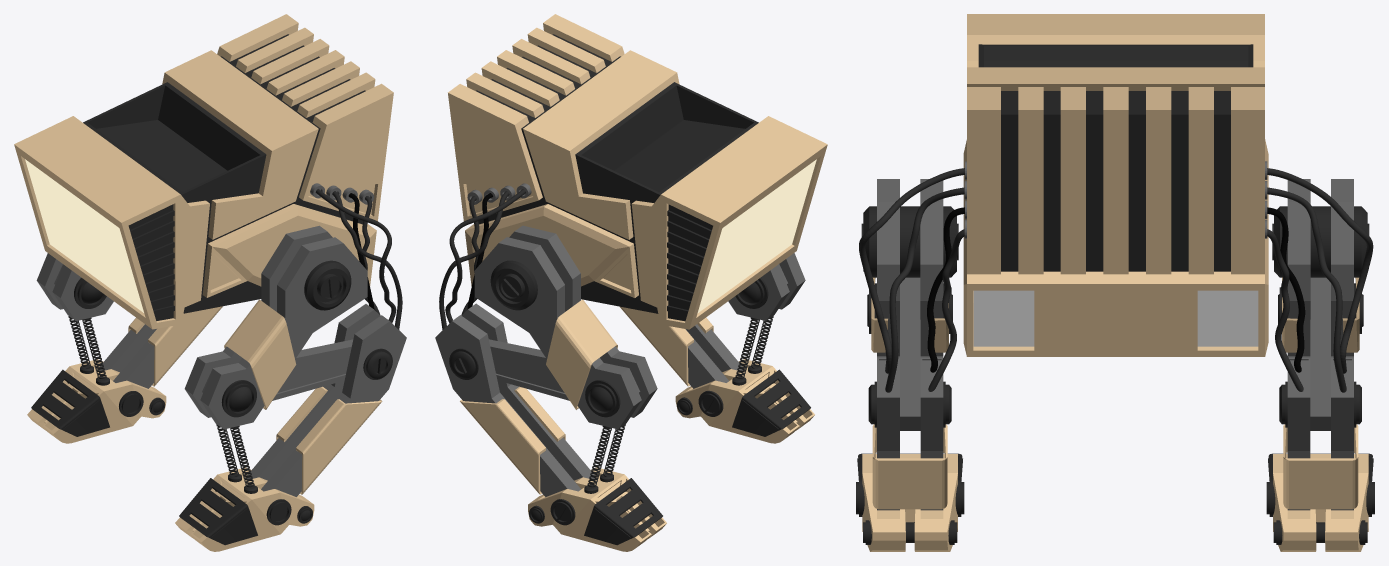
Rendered from robot-1-compressed.glb.
3 views of the same model, side by side, from view 1: azimuth 30°, elevation 25°; view 2: azimuth 150°, elevation 25°; view 3: azimuth 270°, elevation 25° (orthographic). The views are drawn at different scales.
Visible parts, largest first — view 1: Cube.005, Cube.006, Cube.011, Cube.009, Cube.017, Plane.004, Plane.005, Cube.007, Cube, Cube.008, Plane, Plane.003 (+15 smaller); view 2: Cube.005, Cube.006, Cube.003, Cube.001, Cube.017, Plane.002, Plane.001, Cube.007, Cube.008, Cube, Plane.003, Plane (+15 smaller); view 3: Cube.005, Cube.006, Cube.011, Cube.003, Cube, Cube.008, Cube.009, Cube.001, Plane.001, Plane.005, Cube.013, Cube.014 (+12 smaller).
Part boxes in pixels (x1=…): Cube.005: x1=14, y1=14, x2=393, y2=329; Cube.006: x1=83, y1=34, x2=365, y2=313; Cube.011: x1=184, y1=225, x2=367, y2=429; Cube.009: x1=245, y1=304, x2=406, y2=496; Cube.017: x1=25, y1=159, x2=143, y2=312; Plane.004: x1=224, y1=299, x2=296, y2=409; Plane.005: x1=276, y1=386, x2=382, y2=494; Cube.007: x1=128, y1=204, x2=174, y2=320; Cube: x1=27, y1=359, x2=166, y2=443; Cube.008: x1=175, y1=467, x2=314, y2=551; Plane: x1=31, y1=369, x2=109, y2=436; Plane.003: x1=179, y1=478, x2=257, y2=545; Cube.005: x1=448, y1=14, x2=827, y2=329; Cube.006: x1=476, y1=34, x2=758, y2=313; Cube.003: x1=474, y1=225, x2=657, y2=429; Cube.001: x1=435, y1=303, x2=594, y2=496; Cube.017: x1=697, y1=159, x2=816, y2=313; Plane.002: x1=546, y1=299, x2=617, y2=409; Plane.001: x1=460, y1=386, x2=565, y2=494; Cube.007: x1=667, y1=204, x2=712, y2=321; Cube.008: x1=675, y1=359, x2=814, y2=443; Cube: x1=528, y1=467, x2=666, y2=551; Plane.003: x1=732, y1=369, x2=810, y2=436; Plane: x1=584, y1=478, x2=662, y2=545; Cube.005: x1=963, y1=14, x2=1268, y2=356; Cube.006: x1=978, y1=44, x2=1253, y2=271; Cube.011: x1=877, y1=179, x2=943, y2=355; Cube.003: x1=1287, y1=179, x2=1353, y2=355; Cube: x1=1273, y1=454, x2=1368, y2=551; Cube.008: x1=862, y1=454, x2=957, y2=551; Cube.009: x1=877, y1=356, x2=943, y2=510; Cube.001: x1=1287, y1=356, x2=1353, y2=510; Plane.001: x1=1283, y1=424, x2=1358, y2=509; Plane.005: x1=872, y1=424, x2=947, y2=509; Cube.013: x1=859, y1=168, x2=1373, y2=373; Cube.014: x1=885, y1=187, x2=1346, y2=392.
Bounding box in the file's own units: 2.49 × 3.34 × 2.95.
